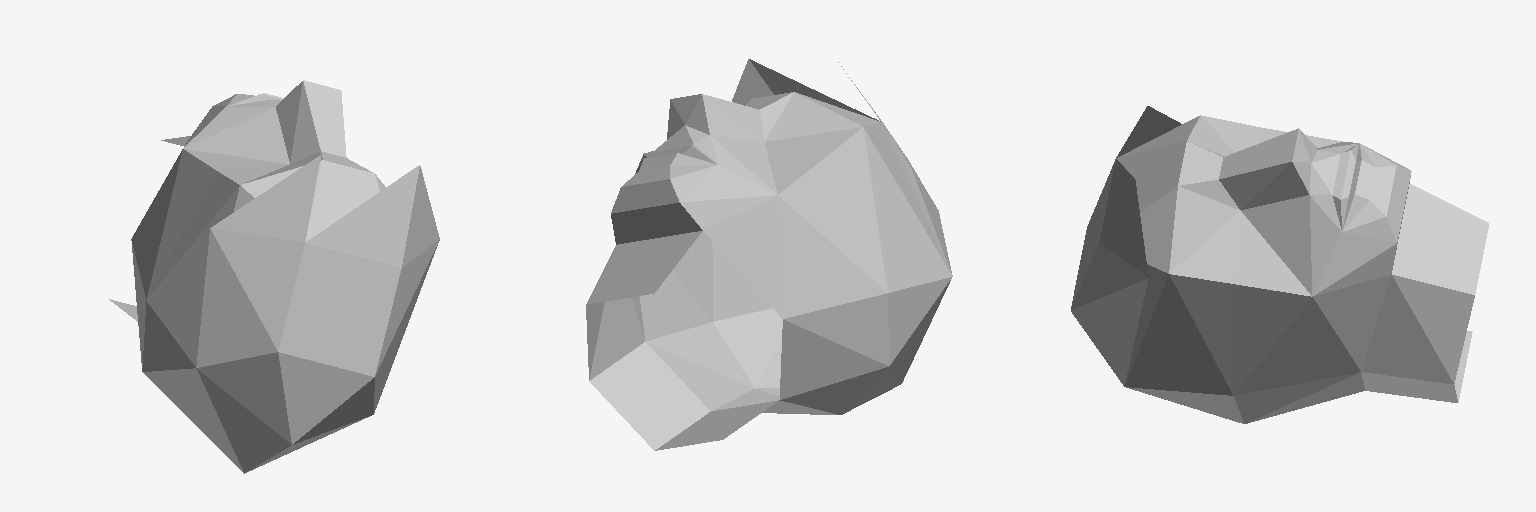
The model's file is joe_head.obj.
The picture shows the model from 3 angles: view 1: azimuth 30°, elevation 25°; view 2: azimuth 150°, elevation 25°; view 3: azimuth 270°, elevation 25°; orthographic projection.
Size of the model in its own units: 0.3172 by 0.385 by 0.4709.